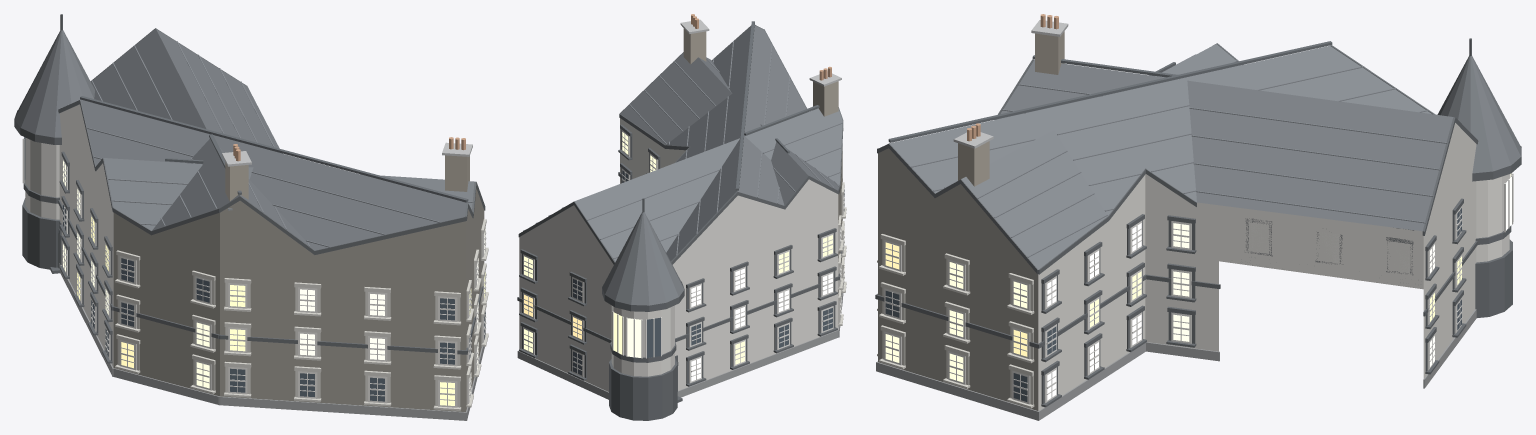
3 views of the same model, side by side, from view 1: azimuth 30°, elevation 25°; view 2: azimuth 150°, elevation 25°; view 3: azimuth 270°, elevation 25° (orthographic). The views are drawn at different scales.
Visible parts, largest first — view 1: rubble, slate, band_dark, dress_cream, harl, frame, windows, plinth, slate_lt, slate_dk, chim_stone, stone_band; view 2: slate, harl, band_dark, windows, frame, plinth, slate_lt, chim_stone, slate_dk, dress_cream, stone_band; view 3: slate, harl, rubble, band_dark, frame, windows, slate_lt, plinth, dress_cream, slate_dk, chim_stone, stone_band.
Boxes of the visible parts, bbox=[...] form: rubble: bbox=[113, 188, 484, 411]; slate: bbox=[14, 28, 474, 250]; band_dark: bbox=[14, 14, 486, 363]; dress_cream: bbox=[115, 219, 488, 410]; harl: bbox=[25, 104, 113, 367]; frame: bbox=[22, 138, 486, 407]; windows: bbox=[24, 137, 485, 405]; plinth: bbox=[59, 263, 484, 420]; slate_lt: bbox=[61, 41, 473, 247]; slate_dk: bbox=[80, 96, 468, 202]; chim_stone: bbox=[225, 155, 469, 201]; stone_band: bbox=[222, 142, 472, 166]; slate: bbox=[575, 25, 842, 305]; harl: bbox=[519, 118, 838, 391]; band_dark: bbox=[517, 25, 843, 420]; windows: bbox=[524, 132, 844, 381]; frame: bbox=[523, 130, 844, 383]; plinth: bbox=[517, 293, 843, 399]; slate_lt: bbox=[523, 41, 842, 259]; chim_stone: bbox=[683, 28, 838, 116]; slate_dk: bbox=[735, 21, 819, 190]; dress_cream: bbox=[838, 178, 846, 325]; stone_band: bbox=[680, 19, 841, 86]; slate: bbox=[890, 44, 1521, 269]; harl: bbox=[1038, 123, 1509, 410]; rubble: bbox=[878, 148, 1038, 410]; band_dark: bbox=[875, 38, 1521, 407]; frame: bbox=[884, 173, 1513, 404]; windows: bbox=[885, 173, 1511, 401]; slate_lt: bbox=[911, 54, 1447, 257]; plinth: bbox=[876, 257, 1476, 420]; dress_cream: bbox=[877, 234, 1034, 408]; slate_dk: bbox=[888, 41, 1332, 142]; chim_stone: bbox=[958, 31, 1064, 186]; stone_band: bbox=[953, 20, 1068, 148].
Size of the model in its own units: 17.93 by 13.67 by 29.1.
